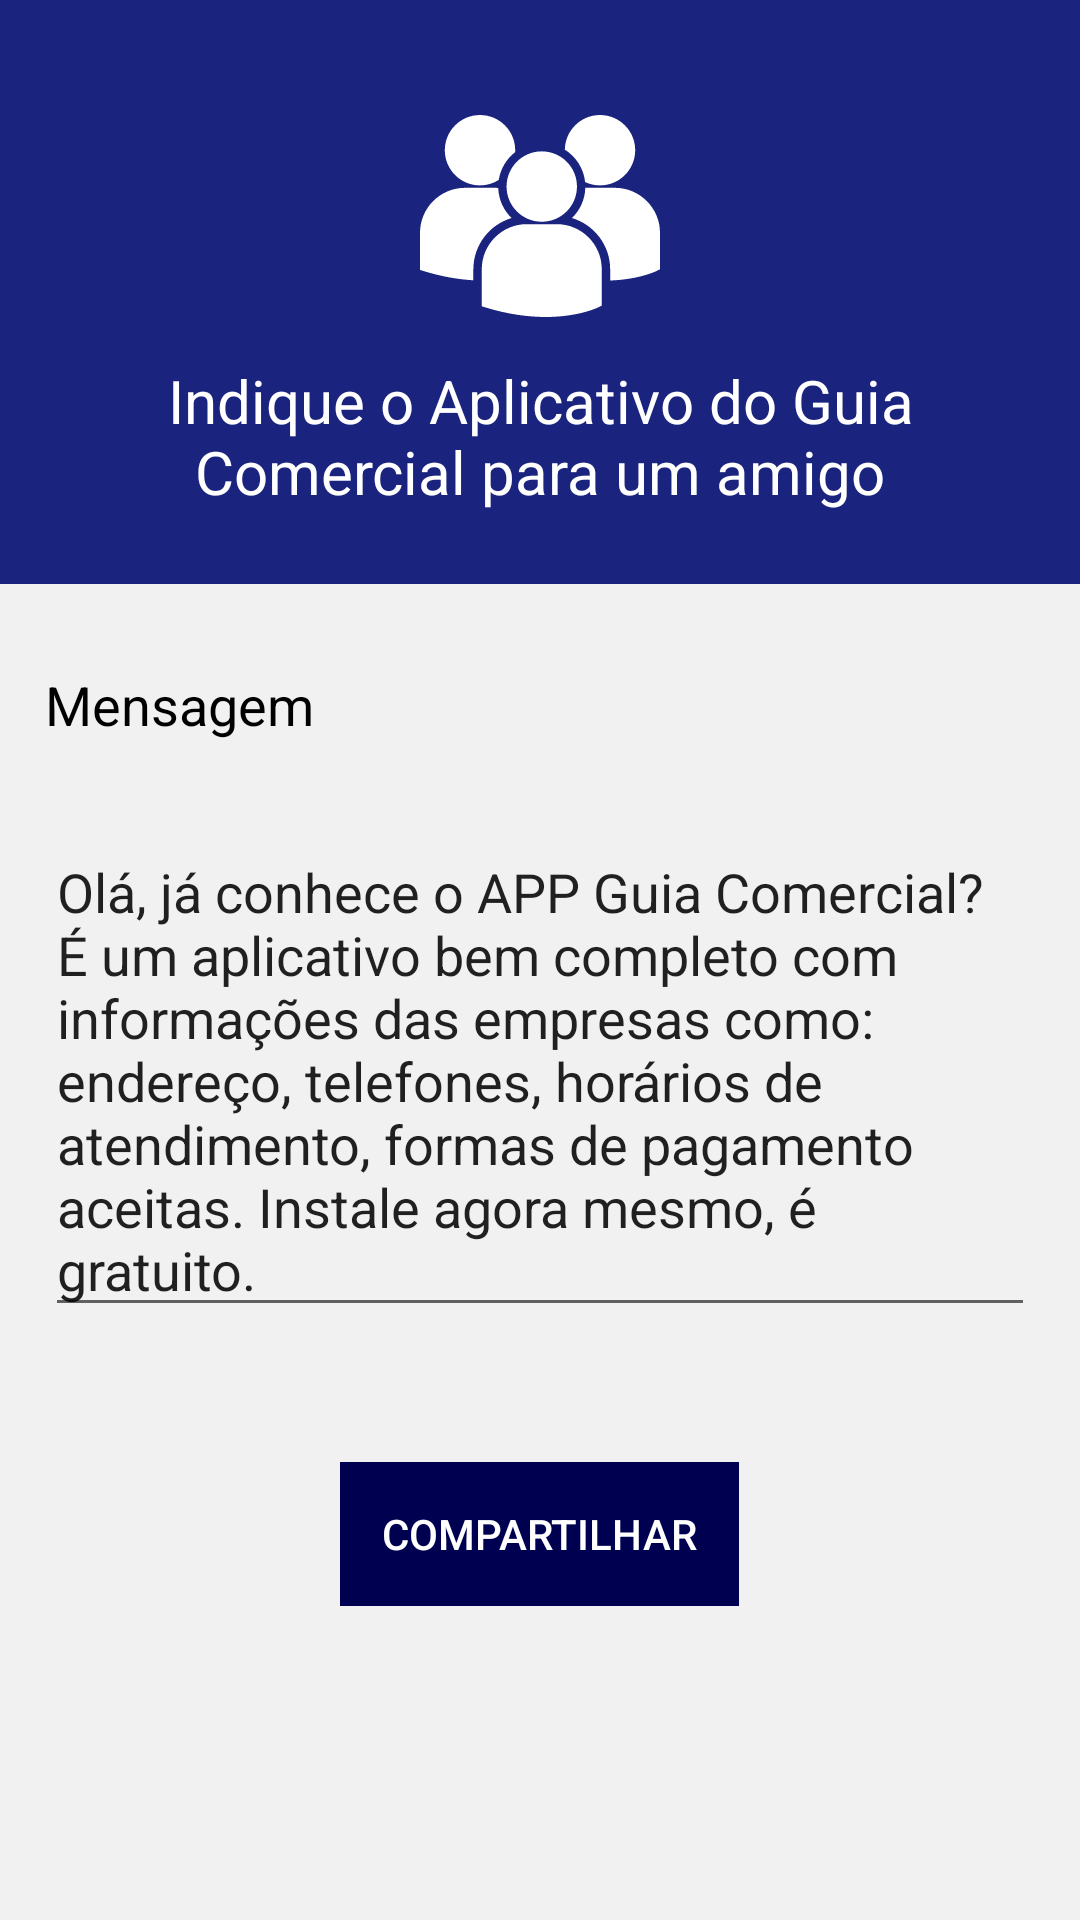

Icons on this 1080x1920 Android screen, each with its box as [x1=x1, y1=y1, x2=x2, y2=y2]:
peoples: [x1=420, y1=115, x2=660, y2=317]
